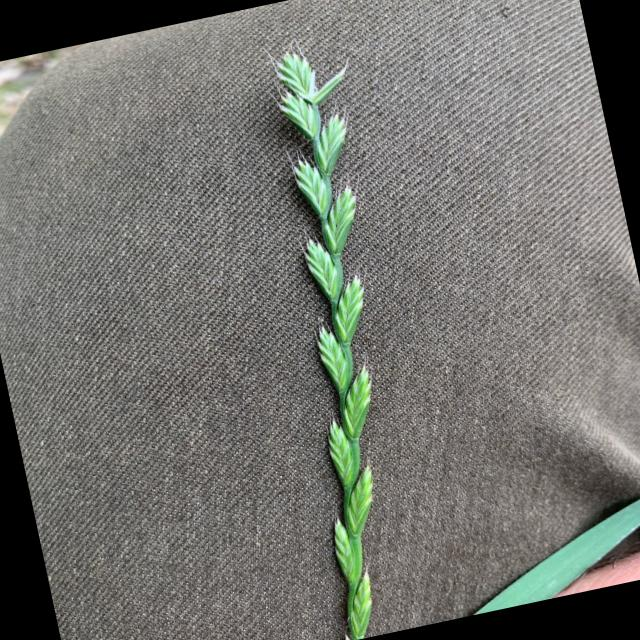Lolium: (218, 28, 466, 640)
